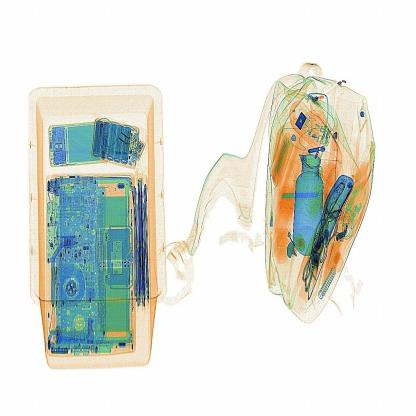pliers: (275, 182, 332, 208)
